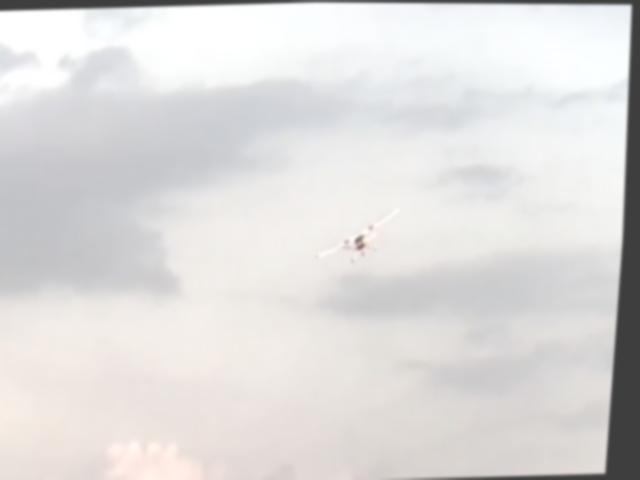plane: (317, 209, 404, 257)
